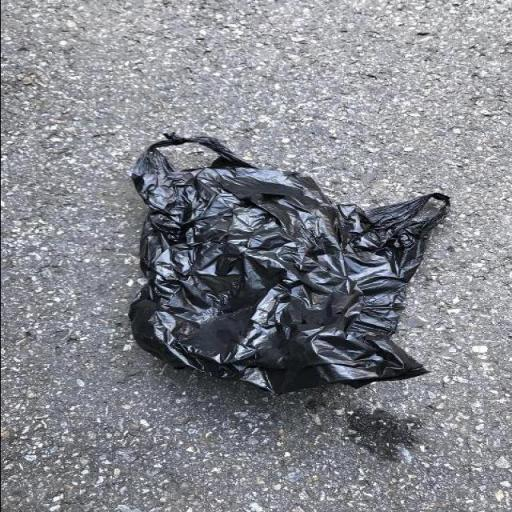plastic-bag: (130, 129, 456, 398)
